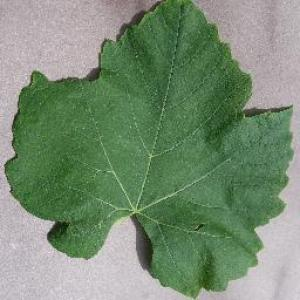Folha: (4, 0, 294, 299)
